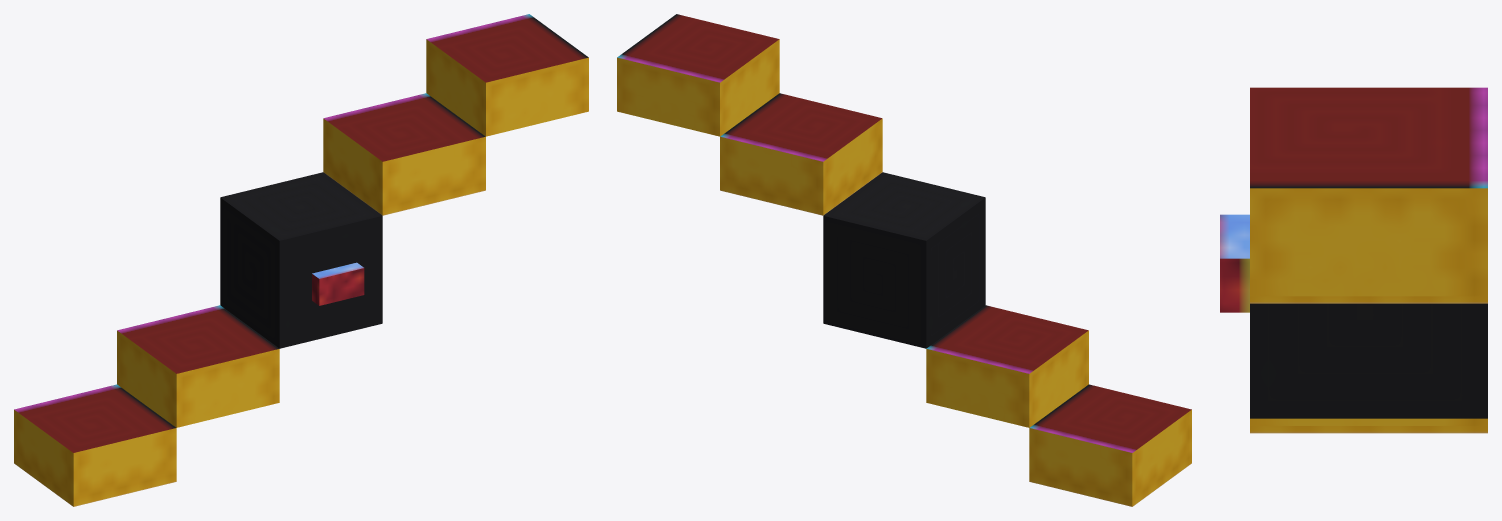
File: Rotor_Bryan.obj
The picture shows the model from 3 angles, left to right: view 1: azimuth 30°, elevation 25°; view 2: azimuth 150°, elevation 25°; view 3: azimuth 270°, elevation 25°; orthographic projection. The views are drawn at different scales.
Parts seen in each view (by area): view 1: Hauptwelt___Kopie__153_140_415_to_171_255_434.002; view 2: Hauptwelt___Kopie__153_140_415_to_171_255_434.002; view 3: Hauptwelt___Kopie__153_140_415_to_171_255_434.002.
Part boxes in pixels (<box>): Hauptwelt___Kopie__153_140_415_to_171_255_434.002: <box>14,14,588,506</box>; Hauptwelt___Kopie__153_140_415_to_171_255_434.002: <box>617,14,1191,506</box>; Hauptwelt___Kopie__153_140_415_to_171_255_434.002: <box>1220,87,1487,433</box>.
Size of the model in its own units: 0.5555 by 0.3333 by 0.125.
